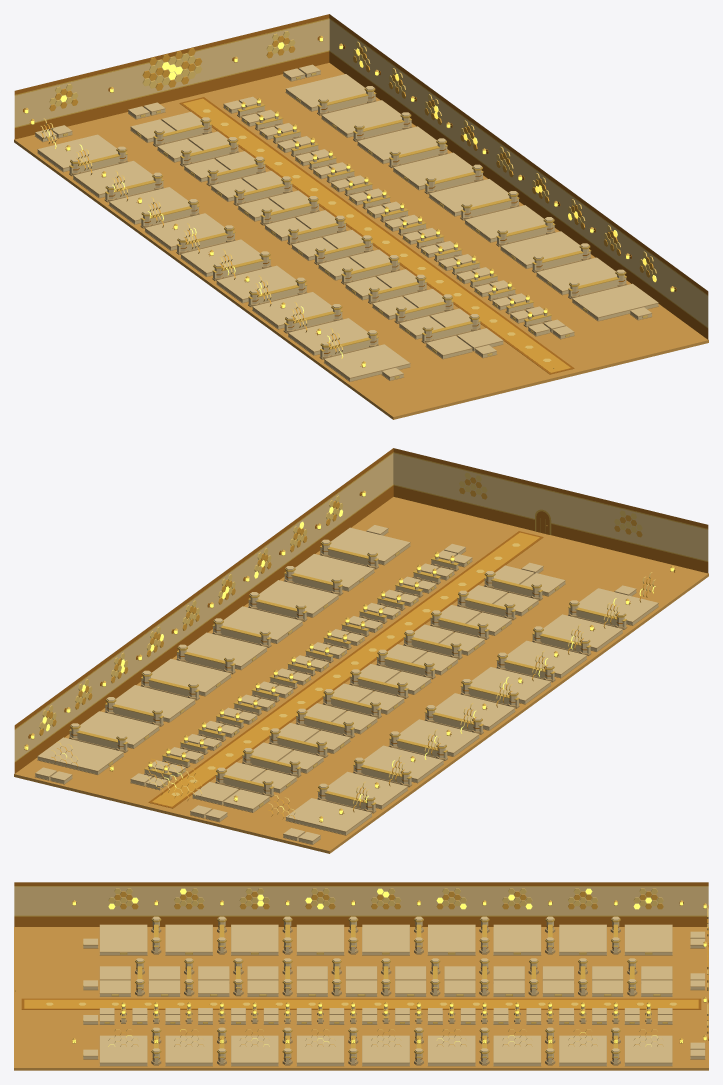
Rendered from room_hive.glb.
3 views of the same model, one above another, from view 1: azimuth 30°, elevation 25°; view 2: azimuth 150°, elevation 25°; view 3: azimuth 270°, elevation 25° (orthographic). The views are drawn at different scales.
Parts seen in each view (by area): view 1: RoomHive, RoomHive_wall_right, RoomHive_wall_far, RoomHive_wall_left; view 2: RoomHive, RoomHive_wall_right, RoomHive_wall_near, RoomHive_wall_left, RoomHive_wall_far; view 3: RoomHive, RoomHive_wall_left, RoomHive_wall_right, RoomHive_wall_far.
Boxes of the visible parts, left/top/right/bottom form: RoomHive: left=14, top=63, right=708, bottom=419; RoomHive_wall_right: left=329, top=14, right=708, bottom=339; RoomHive_wall_far: left=14, top=14, right=329, bottom=139; RoomHive_wall_left: left=29, top=118, right=365, bottom=367; RoomHive: left=14, top=497, right=708, bottom=853; RoomHive_wall_right: left=14, top=448, right=393, bottom=773; RoomHive_wall_near: left=393, top=448, right=708, bottom=573; RoomHive_wall_left: left=339, top=565, right=675, bottom=814; RoomHive_wall_far: left=24, top=742, right=323, bottom=822; RoomHive: left=14, top=916, right=708, bottom=1070; RoomHive_wall_left: left=14, top=882, right=708, bottom=926; RoomHive_wall_right: left=72, top=1029, right=683, bottom=1046; RoomHive_wall_far: left=703, top=903, right=708, bottom=1040.
Bounding box in the file's own units: 40.7 × 6.35 × 84.7.
